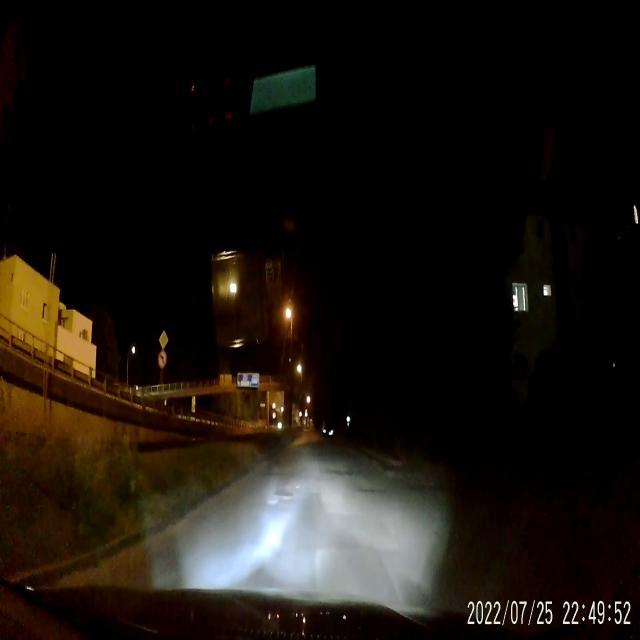Manhole: (272, 484, 294, 504)
Pothole: (357, 481, 382, 503)
